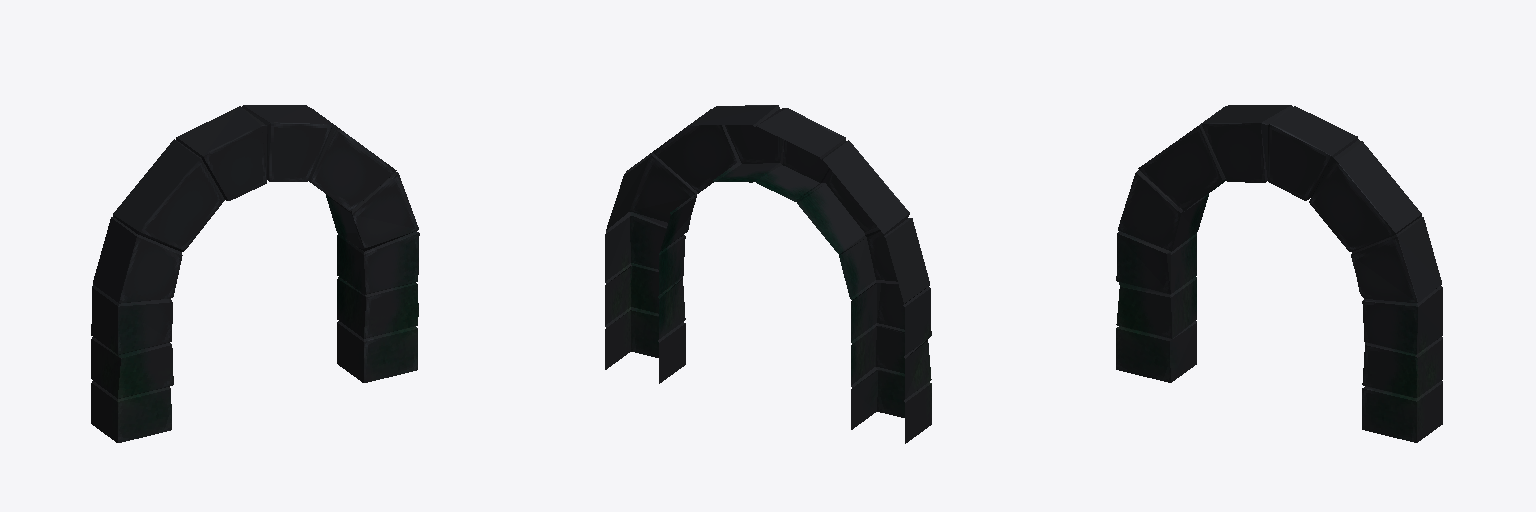
3 renders of one model, left to right at view 1: azimuth 30°, elevation 25°; view 2: azimuth 150°, elevation 25°; view 3: azimuth 330°, elevation 25°, orthographic.
Parts seen in each view (by area): view 1: window_frame_Cube.024; view 2: window_frame_Cube.024; view 3: window_frame_Cube.024.
Part boxes in pixels (bbox=[...]): window_frame_Cube.024: bbox=[91, 105, 419, 442]; window_frame_Cube.024: bbox=[605, 105, 931, 443]; window_frame_Cube.024: bbox=[1116, 105, 1442, 442].
Bounding box in the file's own units: 1.37 × 1.22 × 0.2155.
Materials: 1 (1 with a texture image).